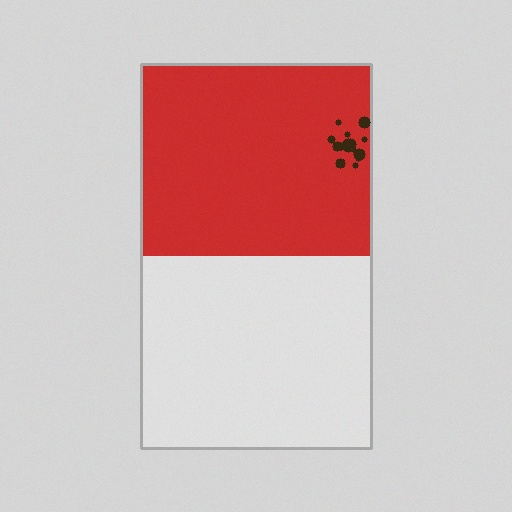contamination: (323, 112, 374, 172)
